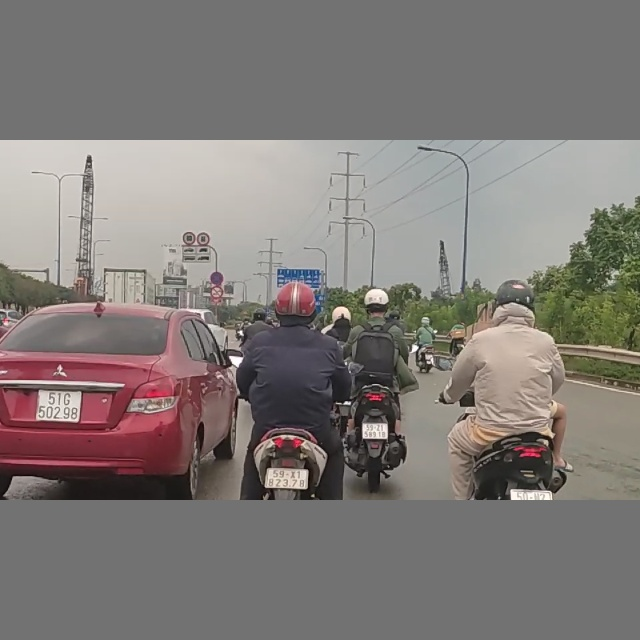P.130: (210, 272, 224, 285)
